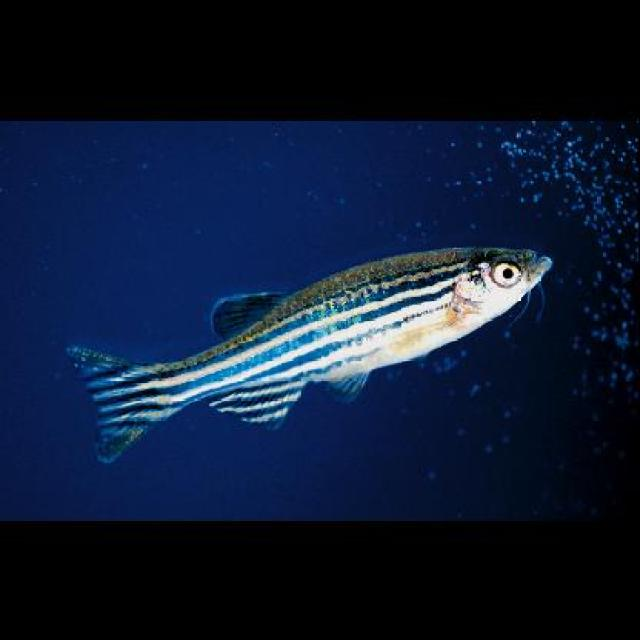ZebraFish: (64, 247, 551, 461)
